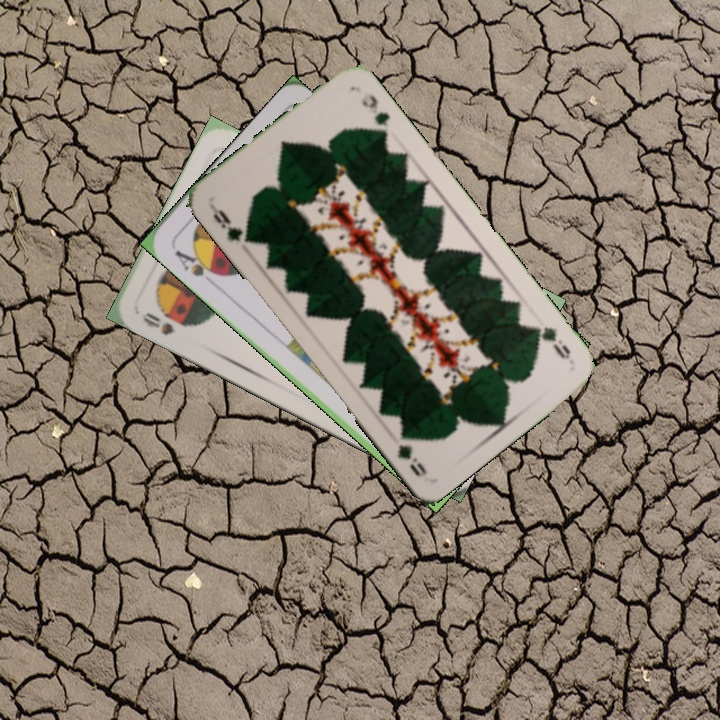G9: (207, 201, 256, 246), (527, 322, 573, 362)
SA: (171, 245, 224, 288)
SO: (138, 308, 178, 339)
